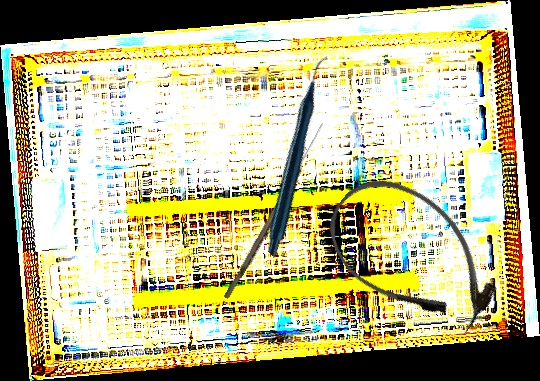Cannula: (308, 155, 518, 355)
Handpiece: (195, 55, 405, 259)
Surgical Spoon: (223, 120, 327, 302)
